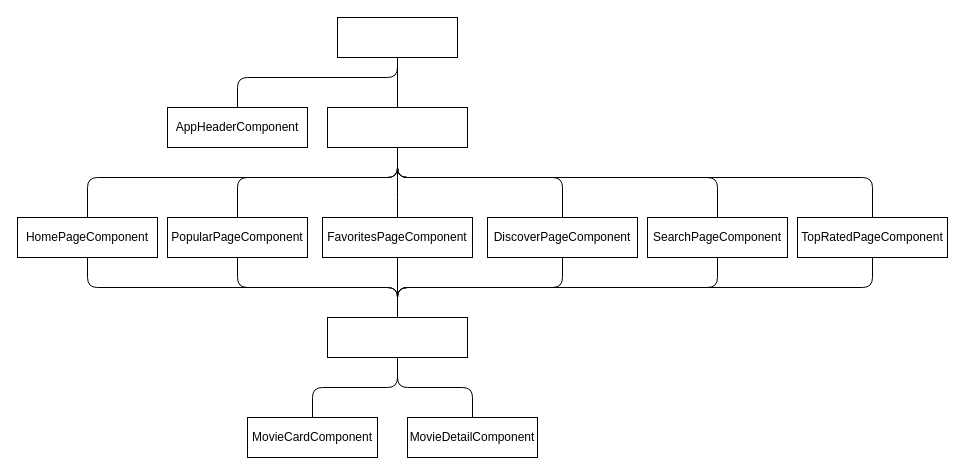
The diagram is 965 pixels wide and 475 high, and some of its shapes have lost their labels. The centre of each missing label's shape, as x and y in pixels:
AppComponent: (397,37)
MovieGridComponent: (397,337)
RouterOutletComponent: (397,127)
